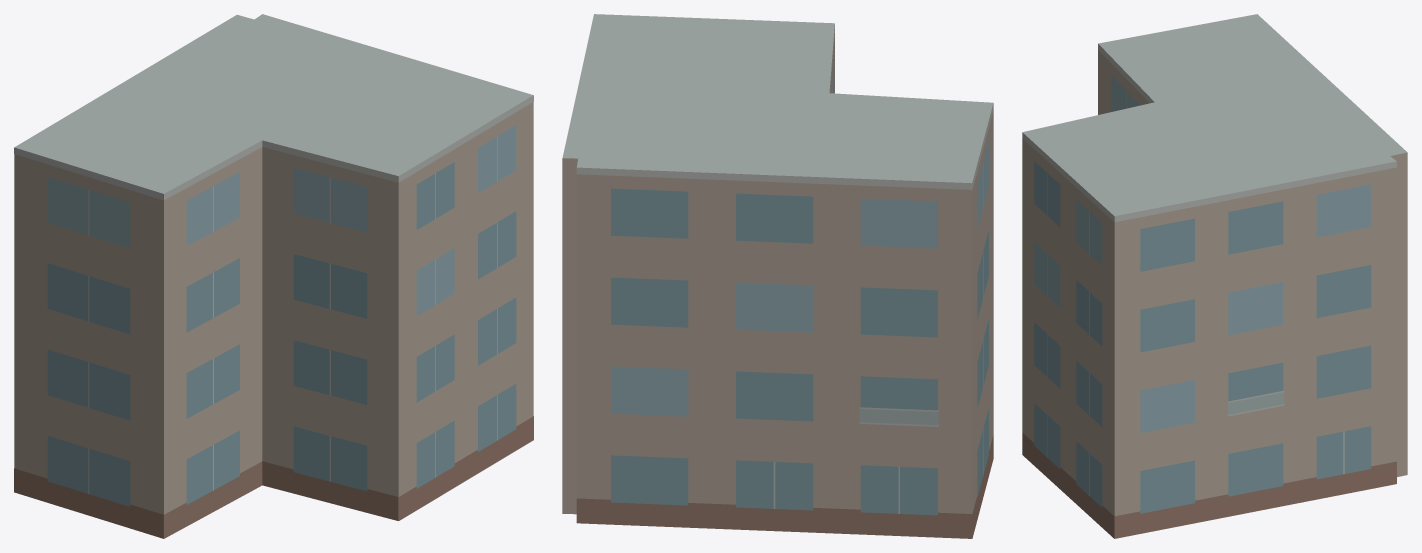
File: survey-upis-32739178.glb
The picture shows the model from 3 angles, left to right: view 1: azimuth 30°, elevation 25°; view 2: azimuth 150°, elevation 25°; view 3: azimuth 270°, elevation 25°; orthographic projection. The views are drawn at different scales.
Visible parts, largest first — view 1: survey-upis-32739178.tmp; view 2: survey-upis-32739178.tmp; view 3: survey-upis-32739178.tmp.
Part boxes in pixels (x1=…): survey-upis-32739178.tmp: x1=14, y1=14, x2=533, y2=538; survey-upis-32739178.tmp: x1=562, y1=14, x2=993, y2=538; survey-upis-32739178.tmp: x1=1022, y1=14, x2=1407, y2=538.
Bounding box in the file's own units: 17.36 × 12.9 × 13.98.
